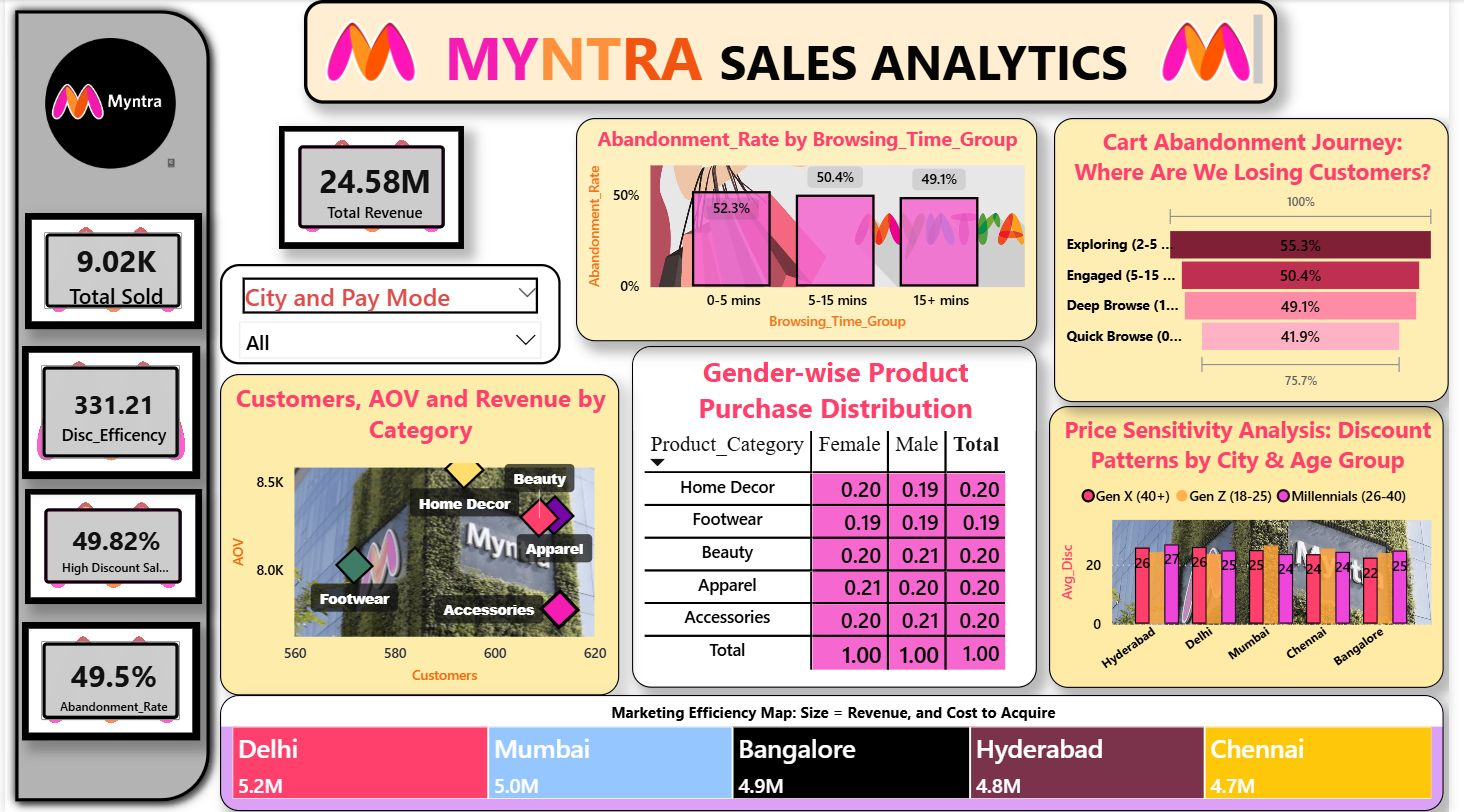

Layout of this report page (visuals, bound fields, positions):
{"tool":"powerbi","page":{"name":"Page 1","canvas":[1280,720],"ordinal":0},"visuals":[{"type":"textbox","box":[265.5,0,862.7,92.4],"z":0},{"type":"textbox","box":[150,240,300,300],"z":1000},{"type":"image","box":[273.3,16.5,103.1,58.4],"z":2000},{"type":"image","box":[1013.5,16.5,103.1,58.4],"z":3000},{"type":"shape","box":[0,0,190.6,719.8],"z":4000},{"type":"image","box":[26.6,33.7,133.9,116.2],"z":5000},{"type":"cardVisual","fields":{"Data":["Sheet1.Total_Quantity"]},"box":[17.7,188.9,156.9,102.9],"z":6000},{"type":"cardVisual","fields":{"Data":["Sheet1.Total Revenue"]},"box":[243.2,111.9,164.4,108.9],"z":7000},{"type":"cardVisual","fields":{"Data":["Sheet1.High Discount Sales %"]},"box":[17.7,433.6,156.9,102],"z":8000},{"type":"cardVisual","fields":{"Data":["Sheet1.Abandonment_Rate"]},"box":[15.1,551.5,157.8,104.6],"z":9000},{"type":"pivotTable","title":"Gender-wise Product Purchase Distribution","fields":{"Rows":["Sheet1.Product_Category"],"Columns":["Sheet1.Gender"],"Values":["Sheet1.Gender %"]},"box":[556,306.8,359.1,303.3],"z":10000},{"type":"clusteredColumnChart","fields":{"Category":["Sheet1.Browsing_Time_Group"],"Y":["Sheet1.Abandonment_Rate"]},"box":[506.7,105,408.5,198.4],"z":11000},{"type":"scatterChart","fields":{"X":["Sheet1.Total_Customers"],"Y":["Sheet1.AOV"],"Size":["Sheet1.Total Revenue"],"Series":["Sheet1.Product_Category"]},"box":[190.6,331.7,354,285],"z":12000},{"type":"lineClusteredColumnComboChart","title":"Price Sensitivity Analysis: Discount Patterns by City & Age Group","fields":{"Category":["Sheet1.City"],"Series":["Sheet1.Age_Group"],"Y":["Avg(Sheet1.Discount_Applied)"]},"box":[926,359.9,350.2,250],"z":13000},{"type":"treemap","title":"Marketing Efficiency Map: Size = Revenue, and Cost to Acquire","fields":{"Group":["Sheet1.City","Sheet1.Product_Category","Sheet1.Gender"],"Values":["Sheet1.Total Revenue"]},"box":[190.6,616.7,1085.5,103.1],"z":14000},{"type":"funnel","title":"Cart Abandonment Journey: Where Are We Losing Customers?","fields":{"Category":["Sheet1.Browsing_Stage1"],"Y":["Sheet1.Abandonment_Rate"]},"box":[929.8,105,350.2,251.9],"z":15000},{"type":"cardVisual","fields":{"Data":["Sheet1.Discount_Efficiency"]},"box":[15.1,306.8,157.8,117.9],"z":16000},{"type":"slicer","fields":{"Values":["Sheet1.City","Sheet1.Payment_Method"]},"box":[190.6,234.4,302.5,89.5],"z":17000}]}

Visuals, with their boxes in screenshot pixels (x1, y1, x2, y2), scaled from the page's 1280x720 canvas onto the 1464x812 screenshot:
textbox: (304,0,1290,104)
textbox: (172,271,515,609)
image: (313,19,431,84)
image: (1159,19,1277,84)
shape: (0,0,218,811)
image: (30,38,184,169)
cardVisual - Sheet1.Total_Quantity: (20,213,200,329)
cardVisual - Sheet1.Total Revenue: (278,126,466,249)
cardVisual - Sheet1.High Discount Sales %: (20,489,200,604)
cardVisual - Sheet1.Abandonment_Rate: (17,622,198,740)
"Gender-wise Product Purchase Distribution" pivotTable: (636,346,1047,688)
clusteredColumnChart - Sheet1.Browsing_Time_Group x Sheet1.Abandonment_Rate: (580,118,1047,342)
scatterChart - Sheet1.Total_Customers x Sheet1.AOV: (218,374,623,696)
"Price Sensitivity Analysis: Discount Patterns by City & Age Group" lineClusteredColumnComboChart: (1059,406,1460,688)
"Marketing Efficiency Map: Size = Revenue, and Cost to Acquire" treemap: (218,696,1460,811)
"Cart Abandonment Journey: Where Are We Losing Customers?" funnel: (1063,118,1463,403)
cardVisual - Sheet1.Discount_Efficiency: (17,346,198,479)
slicer - Sheet1.City x Sheet1.Payment_Method: (218,264,564,365)
